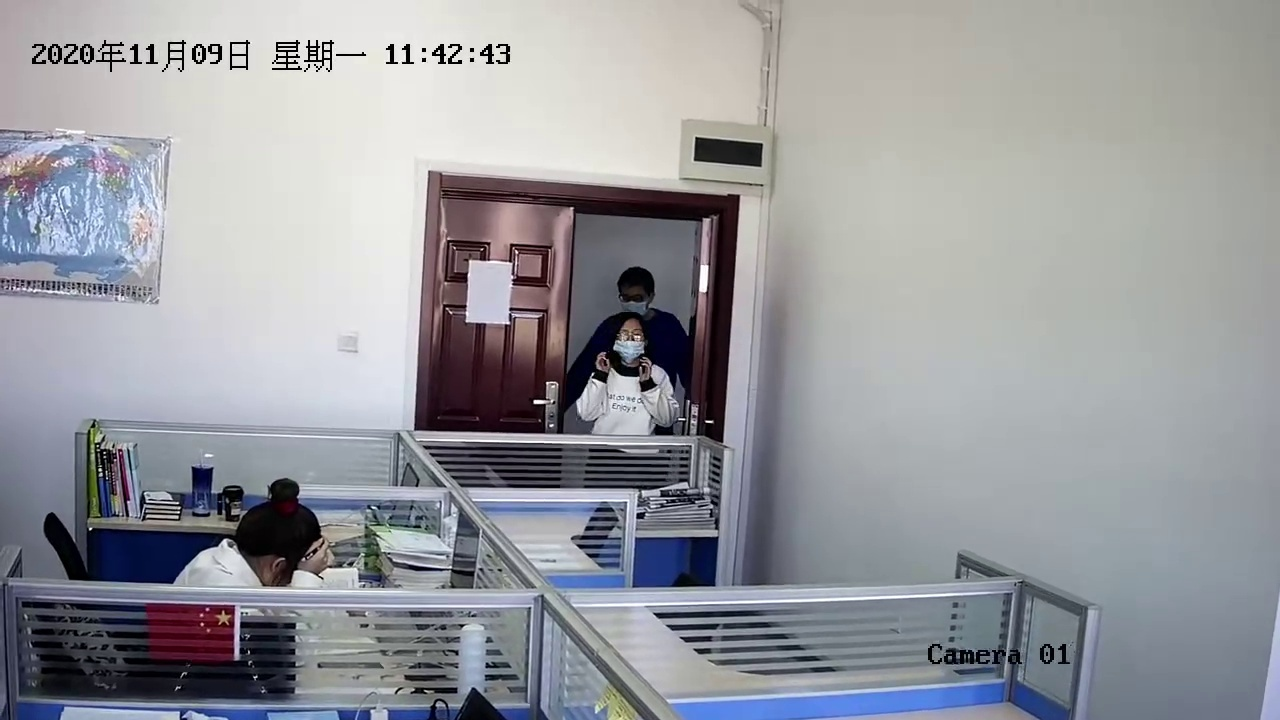mask: (612, 272, 660, 324), (614, 320, 655, 366)
